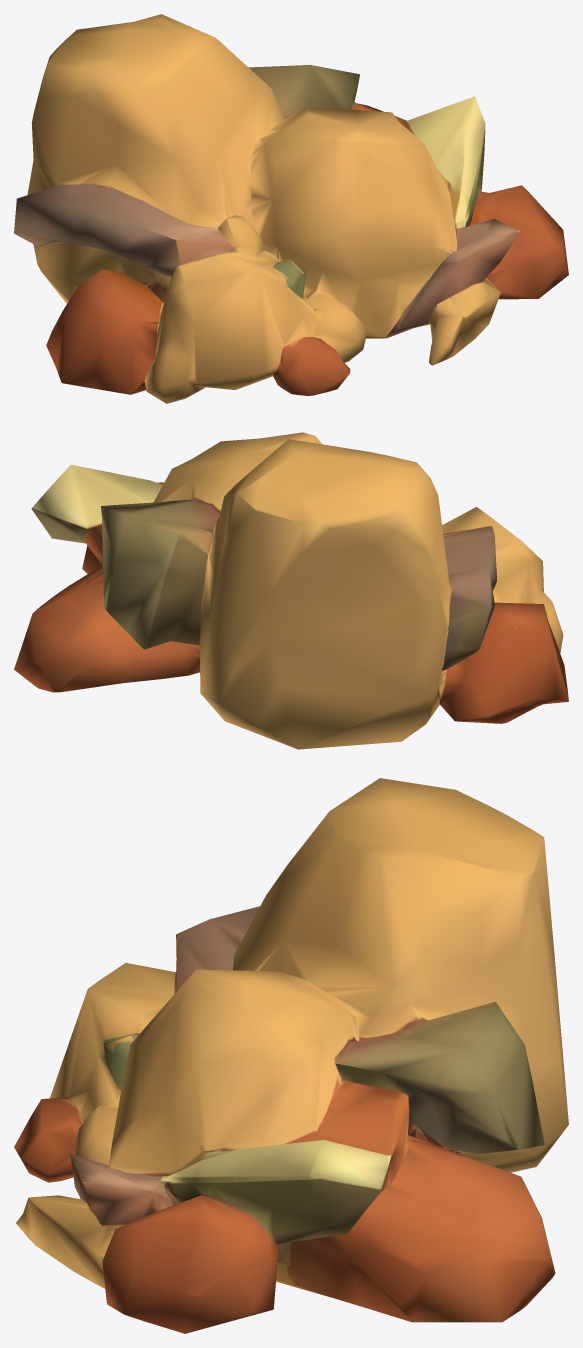
File: irrhakur_stone_2.glb
3 views of the same model, one above another, from view 1: azimuth 30°, elevation 25°; view 2: azimuth 150°, elevation 25°; view 3: azimuth 270°, elevation 25° (orthographic). The views are drawn at different scales.
Visible parts, largest first — view 1: Mesh_0; view 2: Mesh_0; view 3: Mesh_0.
Boxes of the visible parts, bbox=[...] form: Mesh_0: bbox=[14, 14, 568, 403]; Mesh_0: bbox=[14, 432, 568, 749]; Mesh_0: bbox=[14, 778, 568, 1333].
Bounding box in the file's own units: 1.91 × 0.9588 × 1.47.
Materials: 1 (1 with a texture image).
